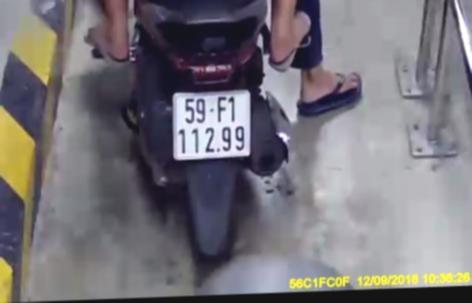License_Plate: (168, 80, 257, 169)
